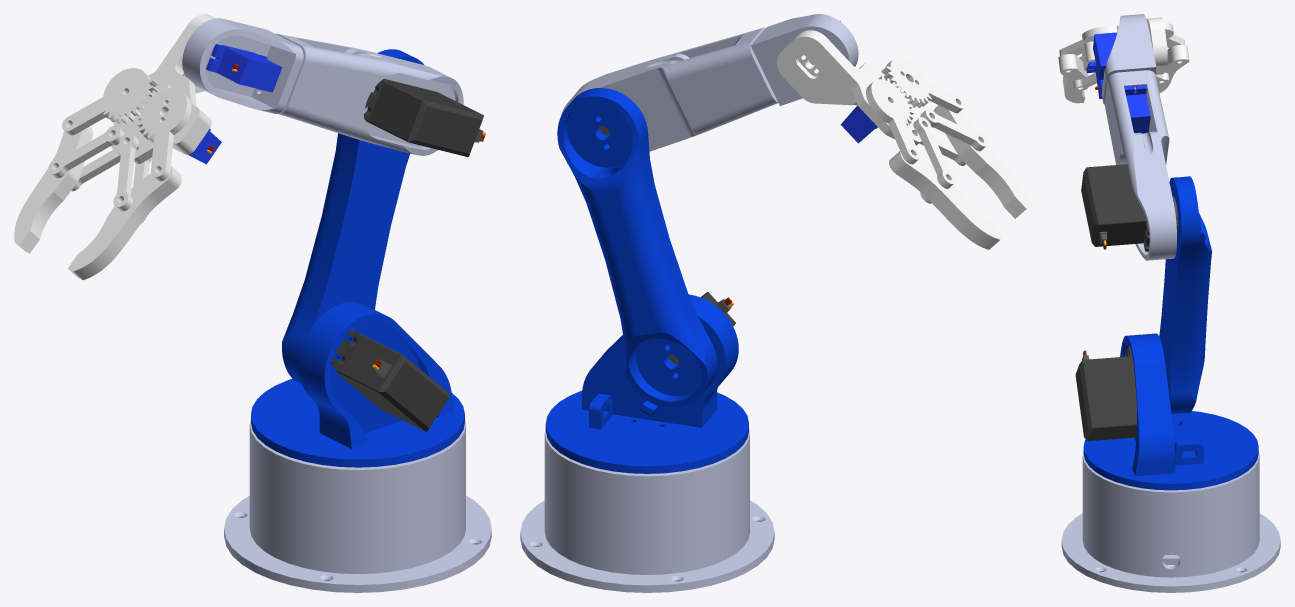
File: RobotArm.fbx
3 renders of one model, left to right at view 1: azimuth 30°, elevation 25°; view 2: azimuth 150°, elevation 25°; view 3: azimuth 270°, elevation 25°, orthographic. The views are drawn at different scales.
Visible parts, largest first — view 1: Base, Waist, Arm 01, Servo Motor MG996R (×2), Arm 02 v3, Gripper 1 (×2), Arm 03, Gripper base, grip link 1 (×3), gear2, gear1, Servo Motor Micro 9g; view 2: Base, Arm 01, Waist, Arm 02 v3, Gripper 1 (×2), Gripper base, Arm 03, gear1, gear2, grip link 1 (×2), Servo Motor Micro 9g; view 3: Base, Waist, Servo Motor MG996R (×2), Arm 01, Arm 02 v3, Arm 03, Servo Motor Micro 9g (×2), Gripper 1 (×2), Gripper base, gear2.
Boxes of the visible parts, x1=… form: Base: x1=224, y1=419, x2=491, y2=592; Waist: x1=251, y1=302, x2=464, y2=467; Arm 01: x1=282, y1=49, x2=423, y2=384; Servo Motor MG996R (×2): x1=331, y1=79, x2=485, y2=431; Arm 02 v3: x1=275, y1=33, x2=463, y2=155; Gripper 1 (×2): x1=14, y1=127, x2=181, y2=280; Arm 03: x1=182, y1=18, x2=303, y2=113; Gripper base: x1=111, y1=14, x2=214, y2=163; grip link 1 (×3): x1=48, y1=125, x2=138, y2=211; gear2: x1=136, y1=83, x2=191, y2=181; gear1: x1=62, y1=68, x2=157, y2=135; Servo Motor Micro 9g: x1=206, y1=44, x2=282, y2=92; Base: x1=520, y1=428, x2=774, y2=592; Arm 01: x1=557, y1=88, x2=717, y2=417; Waist: x1=545, y1=294, x2=748, y2=473; Arm 02 v3: x1=561, y1=27, x2=778, y2=151; Gripper 1 (×2): x1=889, y1=105, x2=1029, y2=249; Gripper base: x1=777, y1=30, x2=923, y2=145; Arm 03: x1=750, y1=14, x2=858, y2=105; gear1: x1=866, y1=75, x2=920, y2=164; gear2: x1=881, y1=57, x2=964, y2=113; grip link 1 (×2): x1=913, y1=109, x2=987, y2=188; Servo Motor Micro 9g: x1=840, y1=106, x2=877, y2=143; Base: x1=1061, y1=451, x2=1280, y2=592; Waist: x1=1083, y1=333, x2=1258, y2=490; Servo Motor MG996R (×2): x1=1075, y1=164, x2=1178, y2=441; Arm 01: x1=1159, y1=176, x2=1211, y2=432; Arm 02 v3: x1=1104, y1=70, x2=1176, y2=260; Arm 03: x1=1101, y1=14, x2=1156, y2=104; Servo Motor Micro 9g (×2): x1=1093, y1=32, x2=1150, y2=133; Gripper 1 (×2): x1=1058, y1=44, x2=1189, y2=103; Gripper base: x1=1081, y1=17, x2=1167, y2=74; gear2: x1=1059, y1=25, x2=1118, y2=55.
Bounding box in the file's own units: 24.77 × 28.39 × 12.31.
